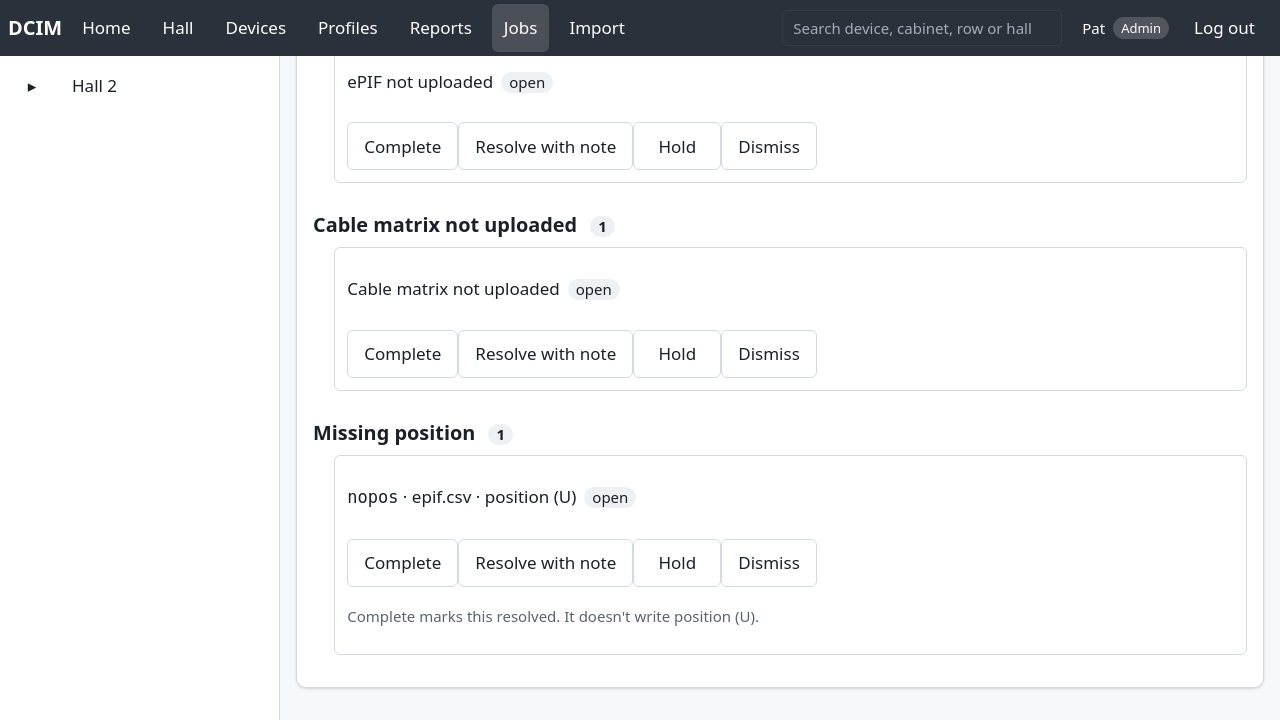
Scenario: job intake live slice 2 routes (mocked fetch) › Resolve with note posts resolve, explains that the field is not written, and links the device
(page scrolled)
Expected: the text "Complete marks this resolved. It doesn't write position (U)." is shown, [347,606,759,626]
Expected: the button "Fill" is not shown
Click the button "Resolve with note" below "nopos": (546,563) [458,539,633,587]
(page scrolled)
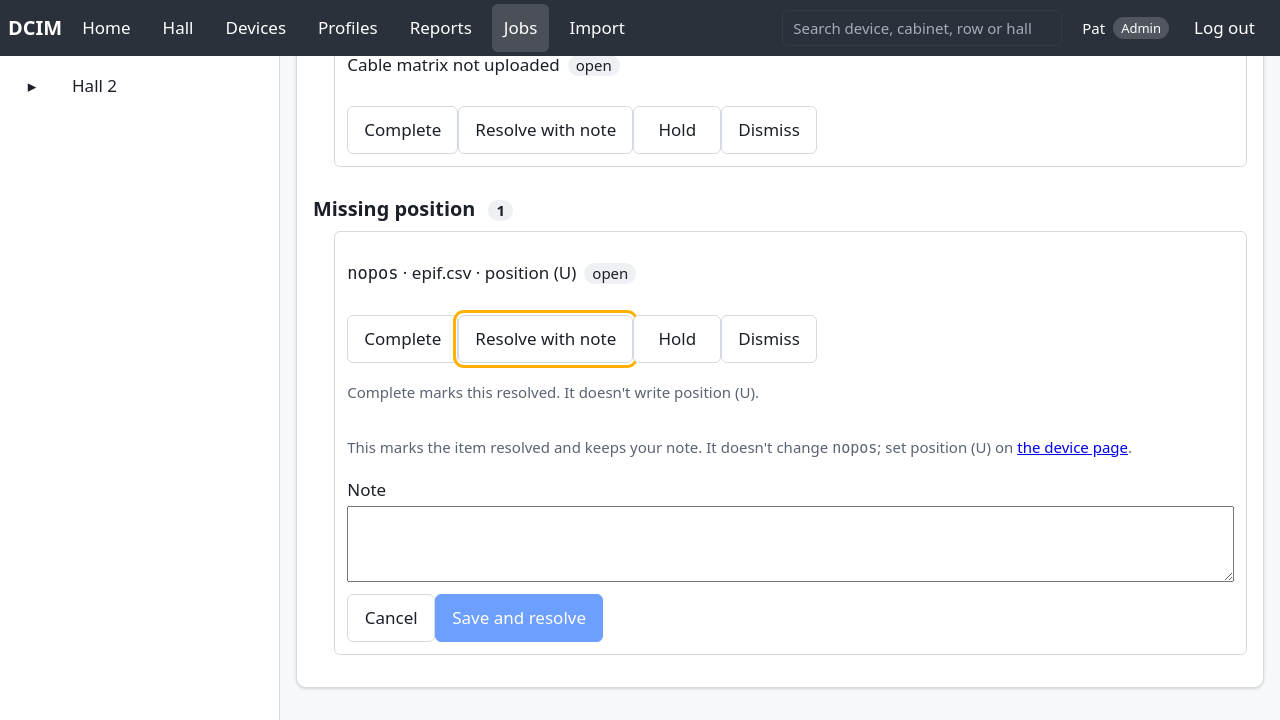
Expected: the element named "Resolve with note" shows "This marks the item resolved and keeps your note.", [347,437,702,457]
Expected: the element named "Resolve with note" shows "It doesn't change nopos", [347,437,1234,459]
Expected: the element named "Resolve with note" shows "set position (U) on the device page", [347,437,1234,459]
In the text box labelled "Note": (791,544) [347,506,1234,582], type "42"
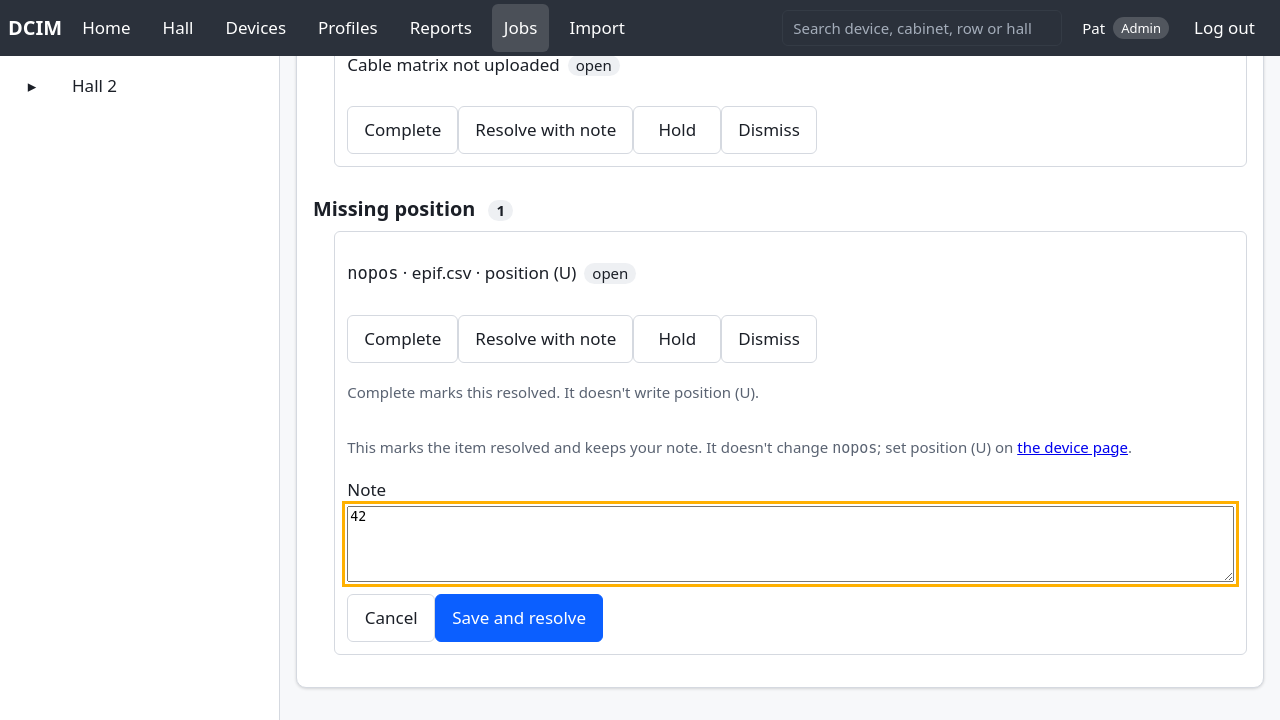
Click the button "Save and resolve": (519,618) [435,594,603,642]
(page scrolled)
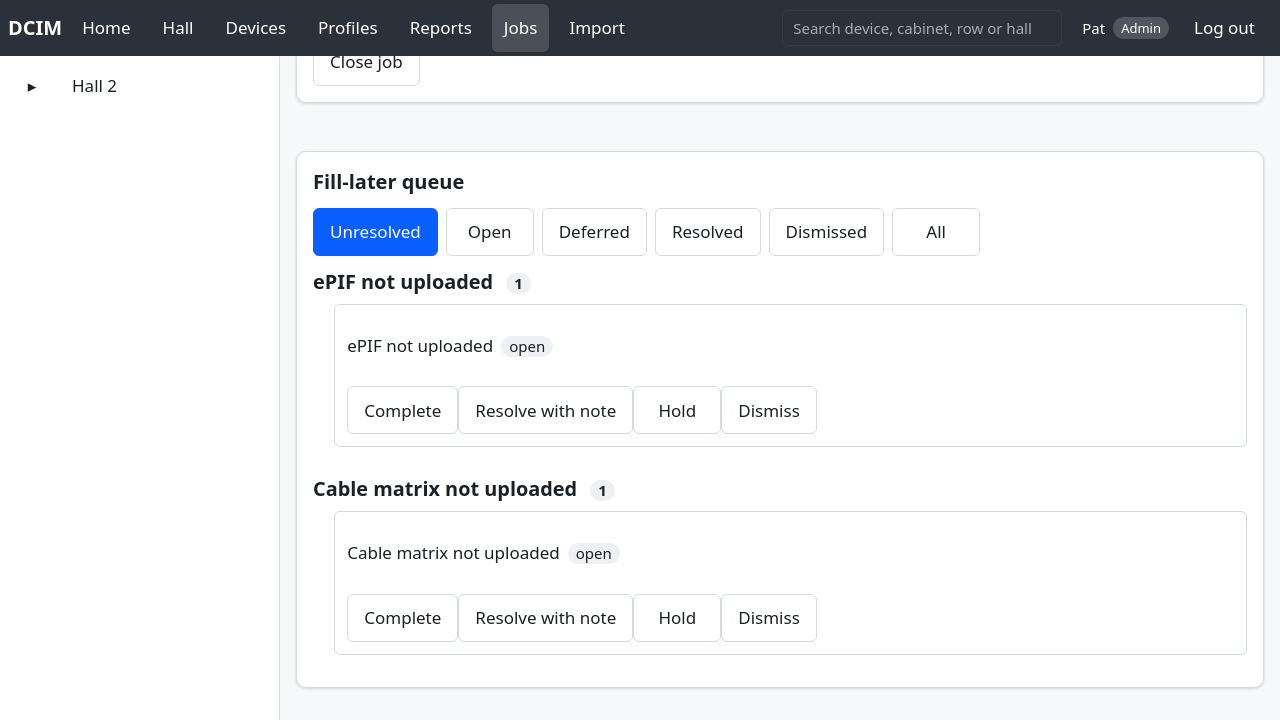
Click the tab "Resolved": (708,232) [655,208,761,256]
(page scrolled)
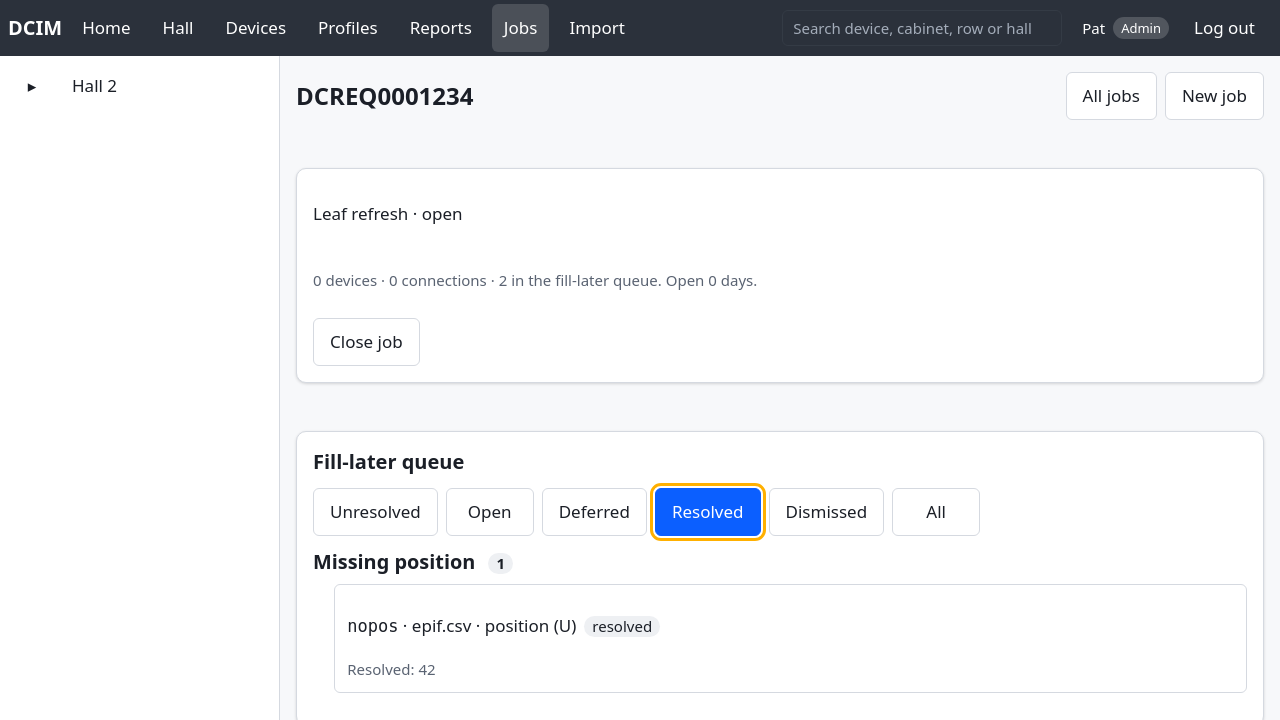
Expected: the element "Missing position" shows "Resolved: 42", [347,659,436,679]
